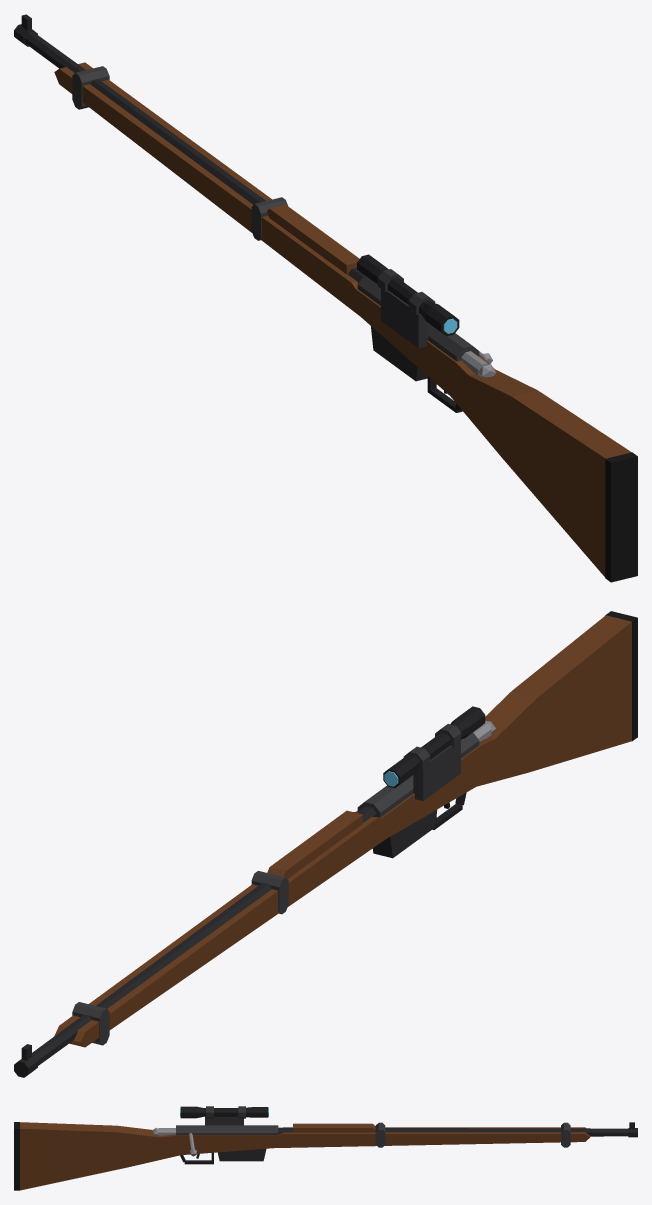
Rendered from Relic.obj.
3 views of the same model, one above another, from view 1: azimuth 30°, elevation 25°; view 2: azimuth 150°, elevation 25°; view 3: azimuth 270°, elevation 25° (orthographic). The views are drawn at different scales.
Parts seen in each view (by area): view 1: Stock, Pad, Barrel, Mount, Scope, Accent, Body, Magazine; view 2: Stock, Barrel, Mount, Scope, Accent, Body, Magazine, Pad; view 3: Stock, Barrel, Body, Scope, Mount, Magazine, Accent, Pad, Bolt, Trigger.
Part boxes in pixels (bbox=[...]): Stock: bbox=[54, 62, 631, 577]; Pad: bbox=[605, 452, 637, 582]; Barrel: bbox=[24, 32, 364, 283]; Mount: bbox=[377, 269, 435, 348]; Scope: bbox=[357, 254, 459, 336]; Accent: bbox=[72, 66, 287, 240]; Body: bbox=[357, 275, 479, 361]; Magazine: bbox=[371, 326, 427, 381]; Stock: bbox=[54, 615, 631, 1047]; Barrel: bbox=[32, 806, 376, 1065]; Mount: bbox=[403, 724, 461, 800]; Scope: bbox=[383, 706, 485, 788]; Accent: bbox=[72, 871, 288, 1045]; Body: bbox=[357, 732, 479, 817]; Magazine: bbox=[372, 810, 437, 858]; Pad: bbox=[605, 611, 637, 741]; Stock: bbox=[20, 1122, 590, 1190]; Barrel: bbox=[278, 1127, 628, 1136]; Body: bbox=[176, 1125, 278, 1135]; Scope: bbox=[180, 1106, 268, 1118]; Mount: bbox=[205, 1106, 245, 1125]; Magazine: bbox=[217, 1148, 266, 1161]; Accent: bbox=[375, 1122, 570, 1147]; Pad: bbox=[14, 1122, 19, 1190]; Bolt: bbox=[152, 1127, 196, 1156]; Trigger: bbox=[180, 1152, 213, 1164].
Bounding box in the file's own units: 0.3839 × 0.8682 × 6.4.
